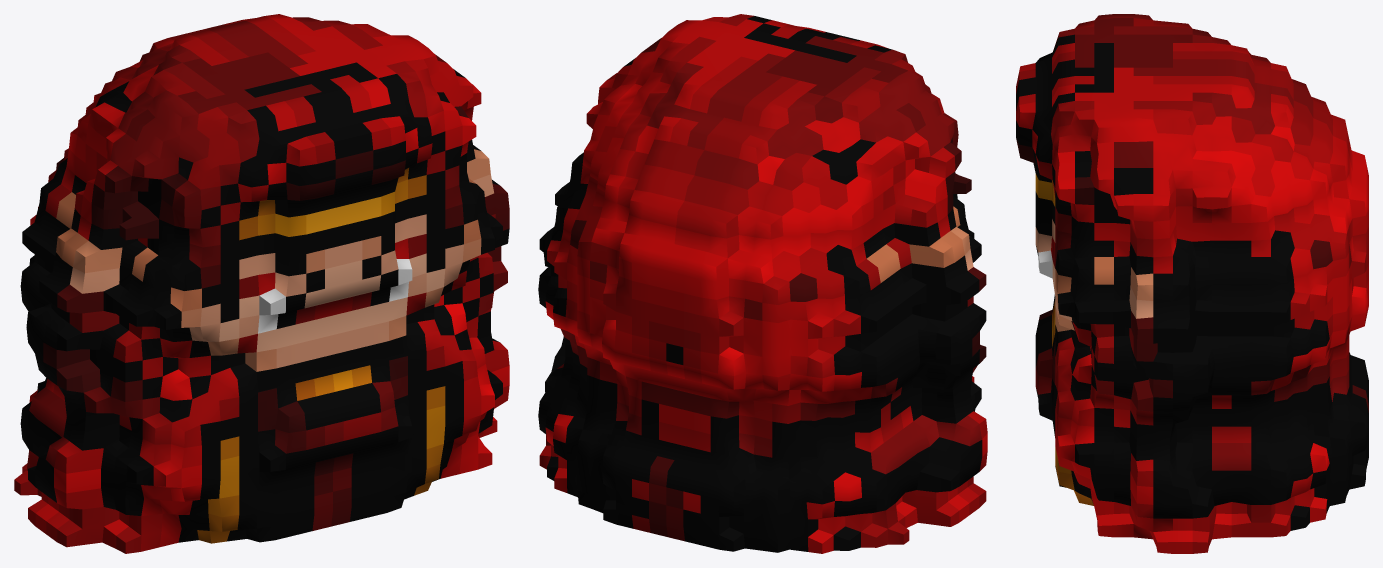
Rendered from Icon_756_03.obj.
3 views of the same model, side by side, from view 1: azimuth 30°, elevation 25°; view 2: azimuth 150°, elevation 25°; view 3: azimuth 270°, elevation 25° (orthographic). The views are drawn at different scales.
Size of the model in its own units: 2.4 by 2.2 by 1.8.
Materials: 1 (1 with a texture image).
